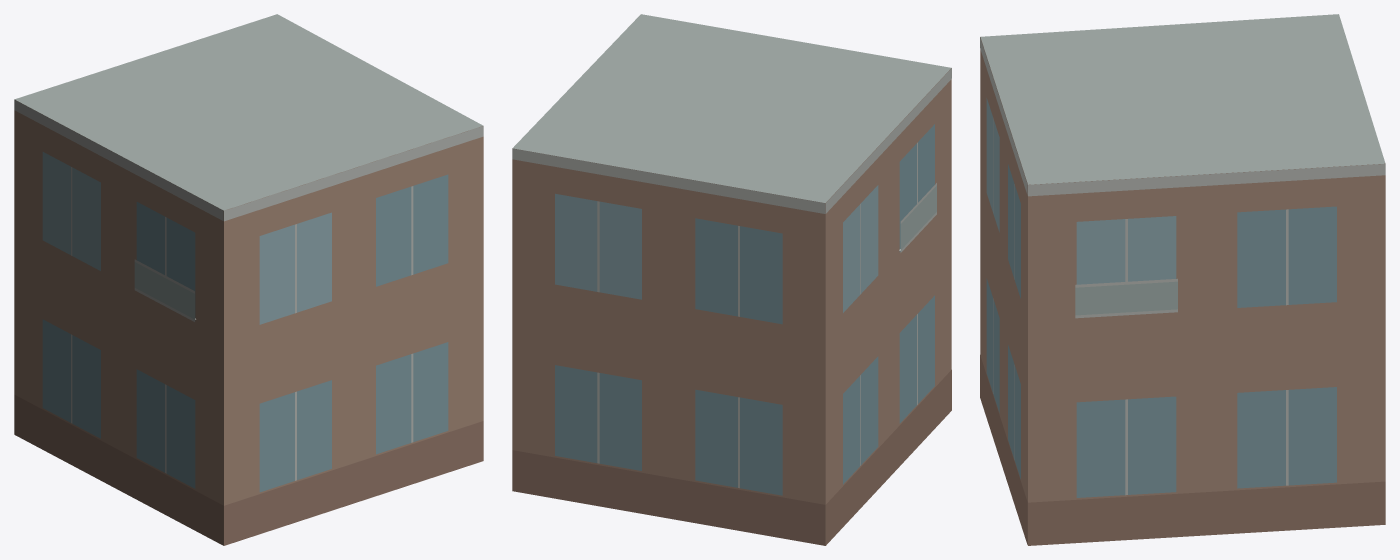
File: survey-upis-32960885.glb
The picture shows the model from 3 angles, left to right: view 1: azimuth 30°, elevation 25°; view 2: azimuth 150°, elevation 25°; view 3: azimuth 270°, elevation 25°; orthographic projection. The views are drawn at different scales.
Parts seen in each view (by area): view 1: survey-upis-32960885.tmp; view 2: survey-upis-32960885.tmp; view 3: survey-upis-32960885.tmp.
Boxes of the visible parts, <box> form: survey-upis-32960885.tmp: <box>14,14,483,545</box>; survey-upis-32960885.tmp: <box>512,14,951,545</box>; survey-upis-32960885.tmp: <box>980,14,1385,545</box>.
Bounding box in the file's own units: 7.72 × 7.6 × 7.74.
